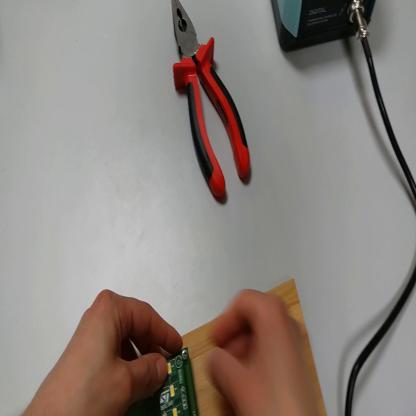hand: (40, 290, 179, 414), (207, 284, 320, 414)
low voltage board: (127, 349, 201, 415)
pliers: (169, 1, 255, 207)
welder station: (272, 1, 377, 53)
working area: (165, 280, 329, 416)
